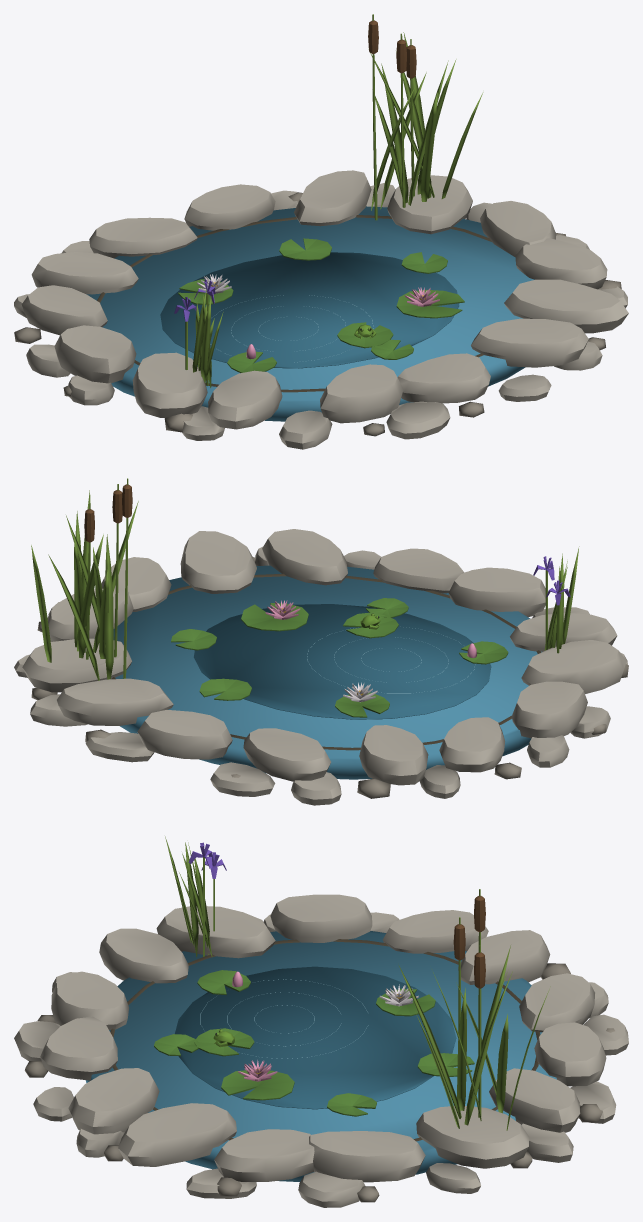
The model's file is pond.glb.
3 views of the same model, one above another, from view 1: azimuth 30°, elevation 25°; view 2: azimuth 150°, elevation 25°; view 3: azimuth 270°, elevation 25° (orthographic). The views are drawn at different scales.
Visible parts, largest first — view 1: pond; view 2: pond; view 3: pond.
Part boxes in pixels (x1=…): pond: x1=14, y1=14, x2=628, y2=449; pond: x1=14, y1=478, x2=628, y2=805; pond: x1=14, y1=836, x2=628, y2=1207.
Bounding box in the file's own units: 2 × 0.8024 × 1.83.
